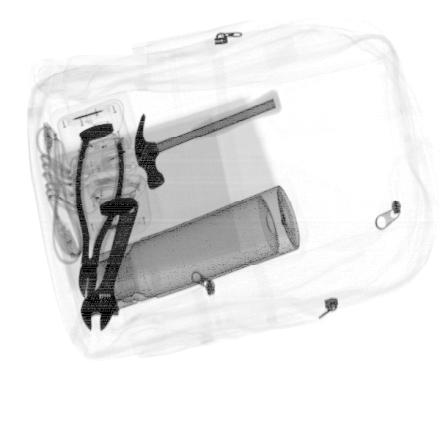Hammer: (132, 85, 285, 191)
Pliers: (72, 133, 125, 301)
Wrench: (81, 198, 138, 332)
